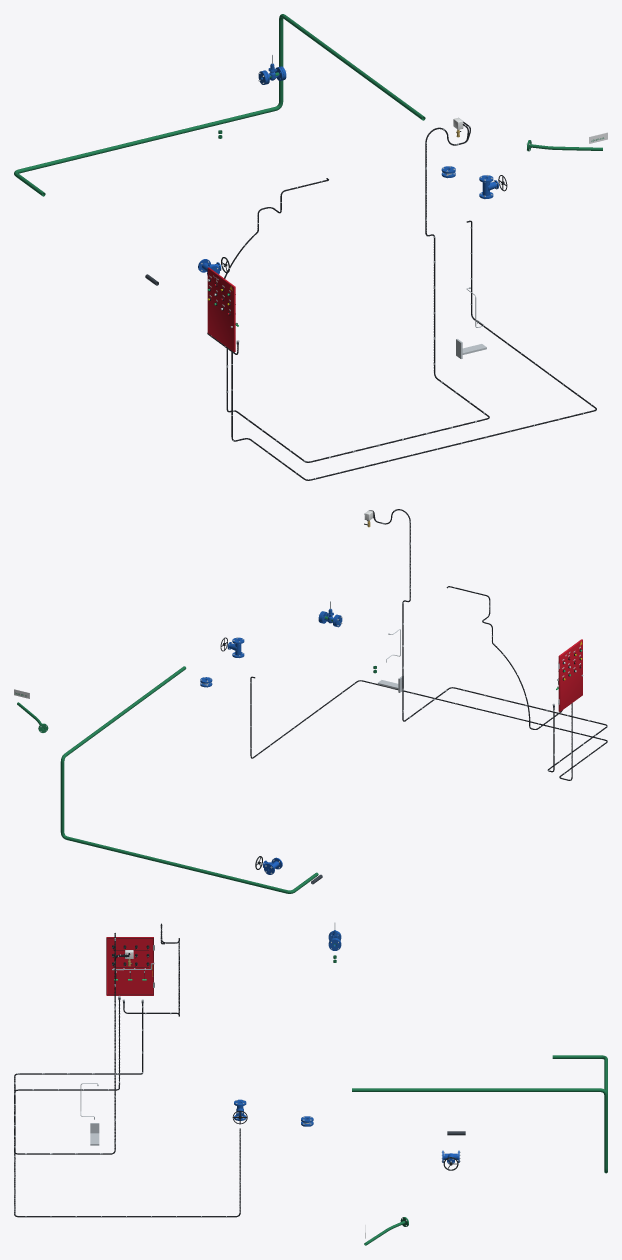
The model's file is s4000-4-C2cGodHr.glb.
The picture shows the model from 3 angles, top to bottom: view 1: azimuth 30°, elevation 25°; view 2: azimuth 150°, elevation 25°; view 3: azimuth 270°, elevation 25°; orthographic projection. The views are drawn at different scales.
Visible parts, largest first — view 1: to_economizer / green, cabinet_door / cabinet_door_5.npz, wiring_pump_1 / black, wiring_pressure_switch_3 / black, wiring_pressure_transmitter / black; view 2: to_economizer / green, cabinet_door / cabinet_door_5.npz, wiring_pump_1 / black, wiring_pressure_switch_3 / black, wiring_pressure_transmitter / black; view 3: cabinet_door / cabinet_door_5.npz, to_economizer / green, wiring_pump_1 / black, wiring_pressure_transmitter / black, wiring_pressure_switch_3 / black.
Boxes of the visible parts, x1=… form: to_economizer / green: x1=14, y1=14, x2=425, y2=196; cabinet_door / cabinet_door_5.npz: x1=207, y1=267, x2=235, y2=352; wiring_pump_1 / black: x1=231, y1=220, x2=596, y2=480; wiring_pressure_switch_3 / black: x1=226, y1=121, x2=489, y2=462; wiring_pressure_transmitter / black: x1=227, y1=124, x2=489, y2=462; to_economizer / green: x1=60, y1=666, x2=318, y2=893; cabinet_door / cabinet_door_5.npz: x1=558, y1=639, x2=583, y2=711; wiring_pump_1 / black: x1=250, y1=676, x2=607, y2=780; wiring_pressure_switch_3 / black: x1=364, y1=509, x2=607, y2=771; wiring_pressure_transmitter / black: x1=371, y1=509, x2=606, y2=772; cabinet_door / cabinet_door_5.npz: x1=106, y1=937, x2=154, y2=995; to_economizer / green: x1=352, y1=1055, x2=607, y2=1173; wiring_pump_1 / black: x1=14, y1=1000, x2=240, y2=1217; wiring_pressure_transmitter / black: x1=14, y1=933, x2=143, y2=1154; wiring_pressure_switch_3 / black: x1=14, y1=933, x2=143, y2=1154.
Size of the model in its own units: 6 by 3.05 by 6.64.
